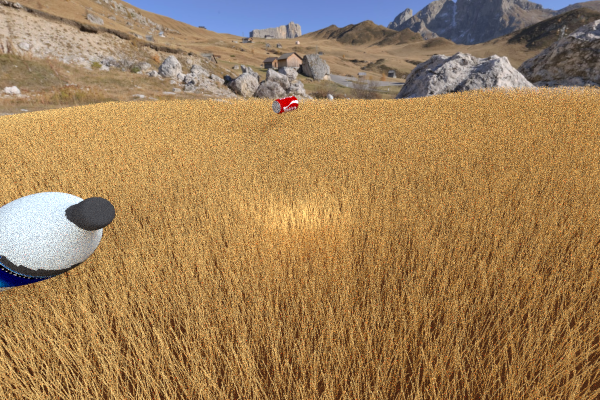bottle: (0, 192, 115, 295)
can: (170, 116, 212, 161), (271, 95, 298, 113)
